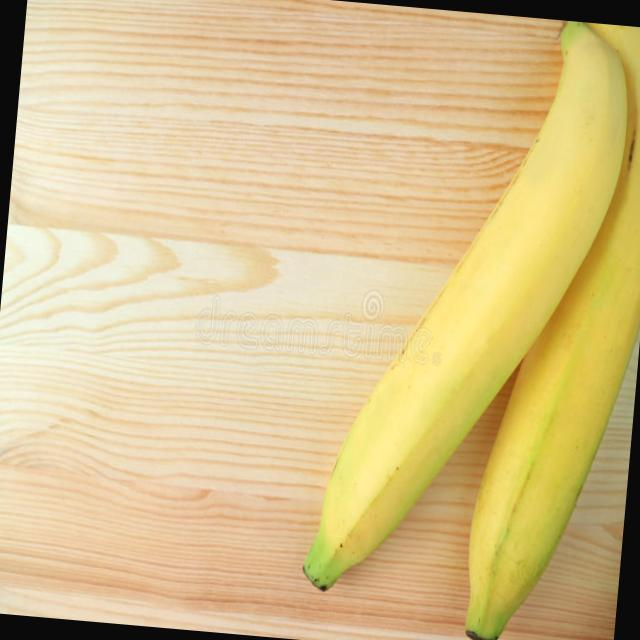Platano: (298, 1, 640, 621), (452, 15, 640, 640)
